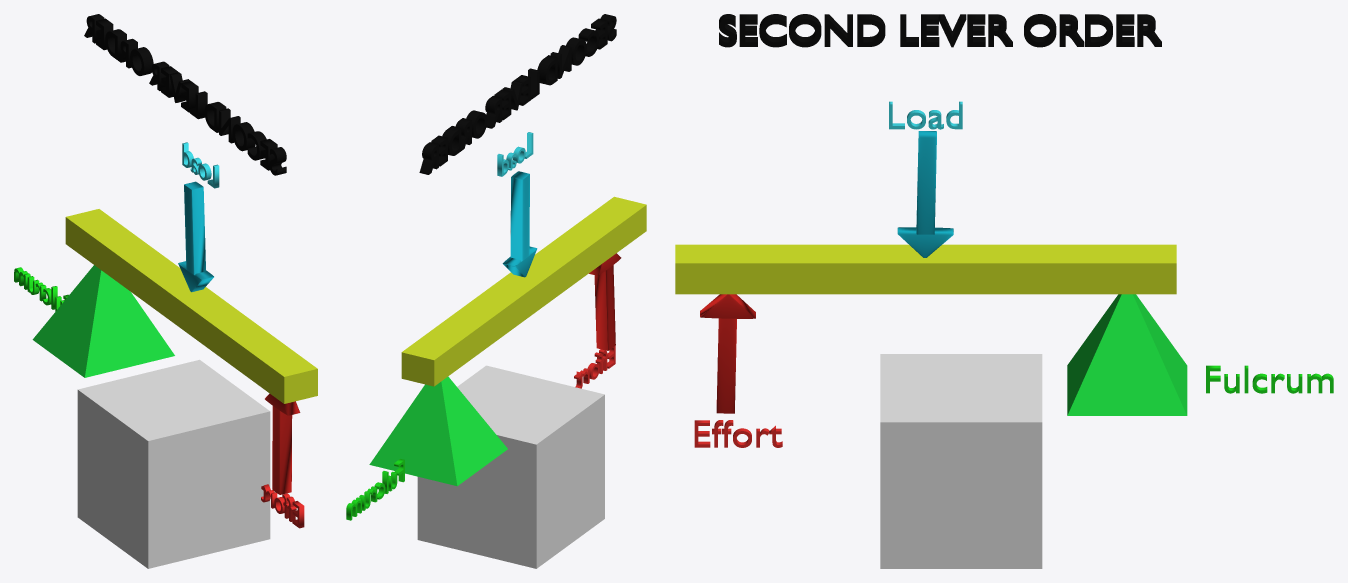
Rendered from second lever order.gltf.
The picture shows the model from 3 angles, left to right: view 1: azimuth 30°, elevation 25°; view 2: azimuth 150°, elevation 25°; view 3: azimuth 270°, elevation 25°; orthographic projection. The views are drawn at different scales.
Parts seen in each view (by area): view 1: Cube, Cube.001, Cube.002, Text.003, Cylinder.001, Cylinder.008, Text, Text.002, Text.001; view 2: Cube, Cube.001, Cube.002, Text.003, Cylinder.001, Cylinder.008, Text.002, Text, Text.001; view 3: Cube, Cube.001, Cube.002, Text.003, Cylinder.001, Cylinder.008, Text.002, Text, Text.001.
Boxes of the visible parts, bbox=[...] form: Cube: bbox=[77, 359, 270, 568]; Cube.001: bbox=[65, 209, 317, 403]; Cube.002: bbox=[32, 265, 174, 377]; Text.003: bbox=[84, 14, 286, 175]; Cylinder.001: bbox=[178, 181, 213, 292]; Cylinder.008: bbox=[265, 393, 300, 494]; Text: bbox=[261, 484, 304, 528]; Text.002: bbox=[14, 267, 68, 311]; Text.001: bbox=[182, 142, 219, 188]; Cube: bbox=[417, 365, 604, 568]; Cube.001: bbox=[401, 196, 646, 386]; Cube.002: bbox=[369, 376, 507, 486]; Text.003: bbox=[419, 14, 616, 174]; Cylinder.001: bbox=[502, 171, 537, 277]; Cylinder.008: bbox=[589, 253, 621, 350]; Text.002: bbox=[346, 459, 404, 520]; Text: bbox=[574, 346, 615, 388]; Text.001: bbox=[497, 132, 533, 176]; Cube: bbox=[880, 354, 1042, 568]; Cube.001: bbox=[675, 244, 1176, 294]; Cube.002: bbox=[1067, 294, 1187, 415]; Text.003: bbox=[719, 14, 1161, 47]; Cylinder.001: bbox=[897, 131, 953, 257]; Cylinder.008: bbox=[700, 294, 755, 413]; Text.002: bbox=[1206, 365, 1333, 393]; Text: bbox=[694, 420, 782, 447]; Text.001: bbox=[889, 101, 962, 129].
Bounding box in the file's own units: 0.5 × 1.77 × 2.04.
